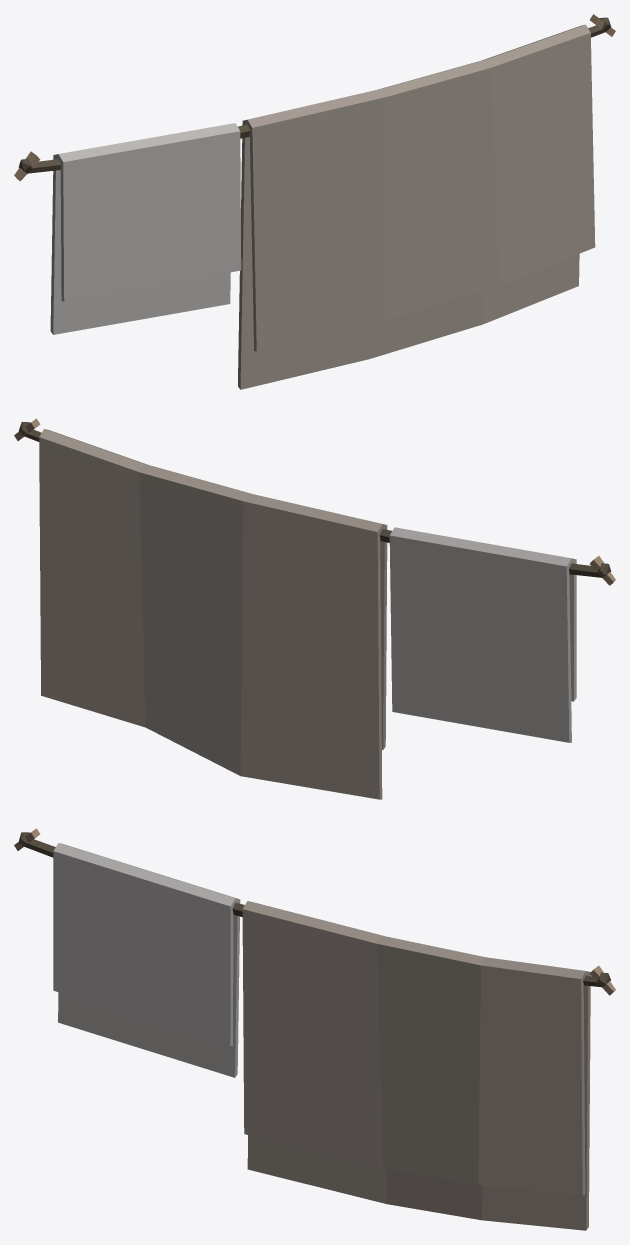
File: SM_Prop_Washingline_Small_02.fbx
3 renders of one model, top to bottom at view 1: azimuth 30°, elevation 25°; view 2: azimuth 150°, elevation 25°; view 3: azimuth 330°, elevation 25°, orthographic.
Parts seen in each view (by area): view 1: SM_Prop_Washingline_Small_02; view 2: SM_Prop_Washingline_Small_02; view 3: SM_Prop_Washingline_Small_02.
Part boxes in pixels (x1,y1,x2,y2): SM_Prop_Washingline_Small_02: (14, 14, 615, 389); SM_Prop_Washingline_Small_02: (14, 418, 615, 799); SM_Prop_Washingline_Small_02: (14, 828, 615, 1230).
Size of the model in its own units: 396 by 187 by 25.14.
